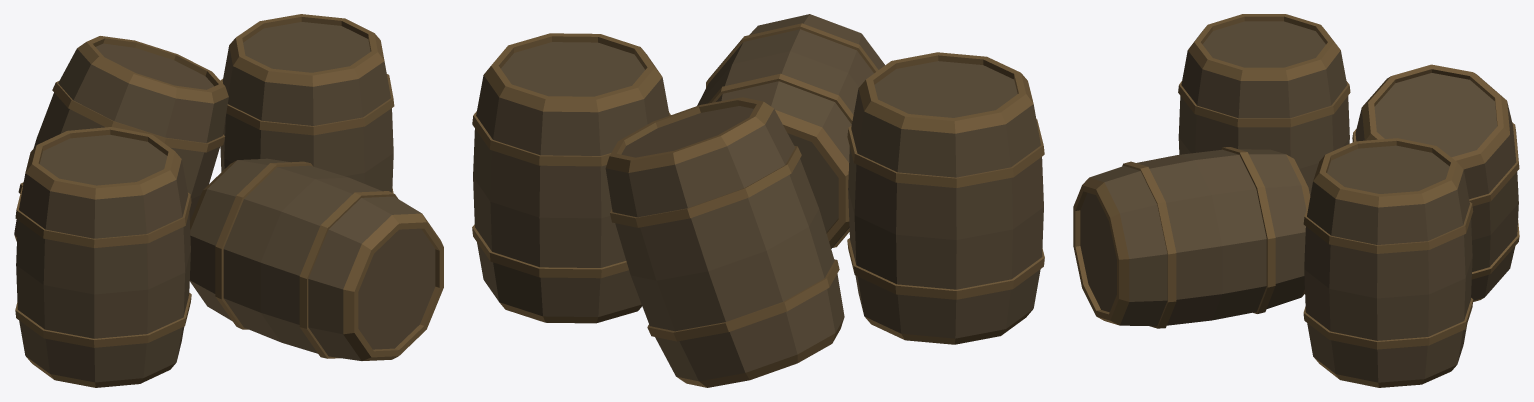
File: model_polytope_barrels.fbx
The picture shows the model from 3 angles, left to right: view 1: azimuth 30°, elevation 25°; view 2: azimuth 150°, elevation 25°; view 3: azimuth 270°, elevation 25°; orthographic projection. The views are drawn at different scales.
Visible parts, largest first — view 1: model_polytope_barrels; view 2: model_polytope_barrels; view 3: model_polytope_barrels.
Part boxes in pixels (bbox=[...]): model_polytope_barrels: bbox=[14, 14, 443, 387]; model_polytope_barrels: bbox=[472, 14, 1044, 387]; model_polytope_barrels: bbox=[1073, 14, 1519, 387].
Bounding box in the file's own units: 283 × 151 × 272.
Materials: 1 (1 with a texture image).
